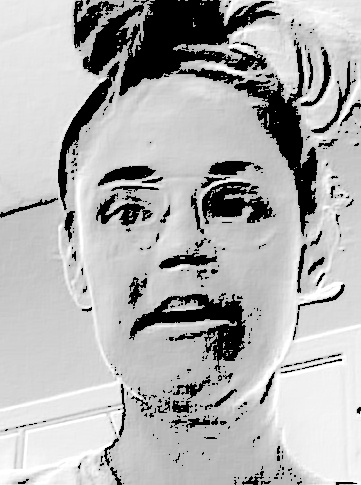nose_M_C: (153, 208, 222, 287)
